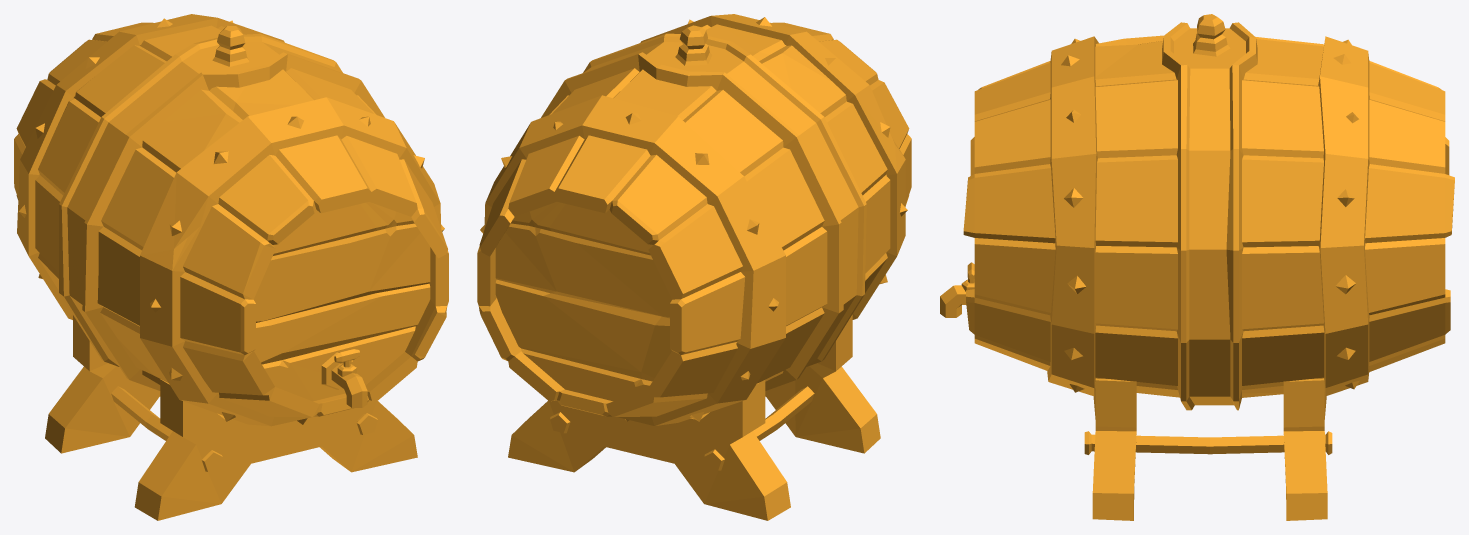
Rendered from SM_Barrel_Tap_A_Fantasy.fbx.
3 renders of one model, left to right at view 1: azimuth 30°, elevation 25°; view 2: azimuth 150°, elevation 25°; view 3: azimuth 270°, elevation 25°, orthographic. The views are drawn at different scales.
Parts seen in each view (by area): view 1: barrel-tap-a-fantasy; view 2: barrel-tap-a-fantasy; view 3: barrel-tap-a-fantasy.
Part boxes in pixels (x1=…): barrel-tap-a-fantasy: x1=14, y1=14, x2=448, y2=520; barrel-tap-a-fantasy: x1=477, y1=14, x2=911, y2=520; barrel-tap-a-fantasy: x1=940, y1=14, x2=1454, y2=520.
Bounding box in the file's own units: 0.9918 × 1.25 × 1.34.
